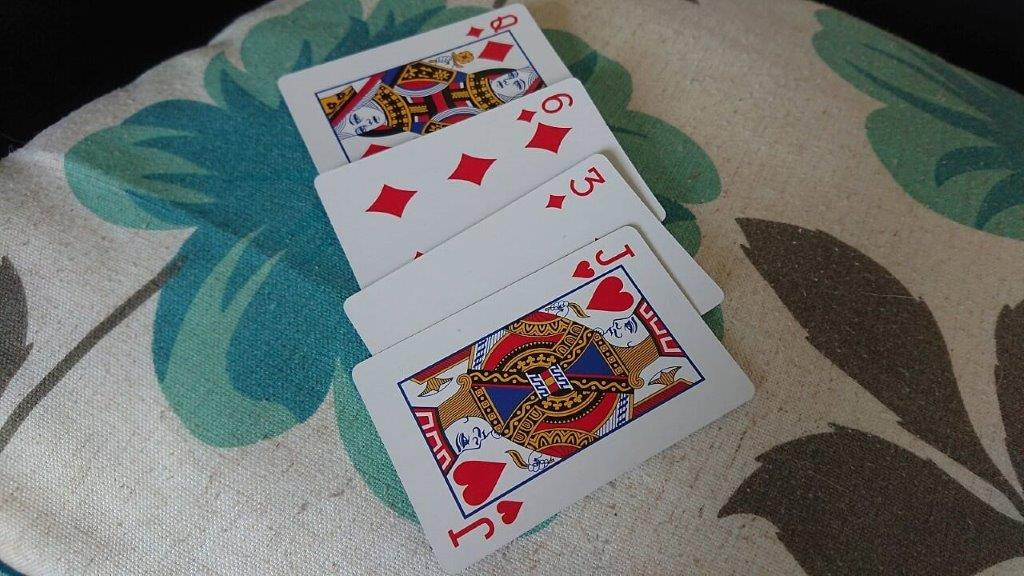3D: (458, 151, 662, 227)
6D: (377, 75, 624, 151)
JH: (348, 224, 758, 576)
QD: (277, 2, 573, 79)
